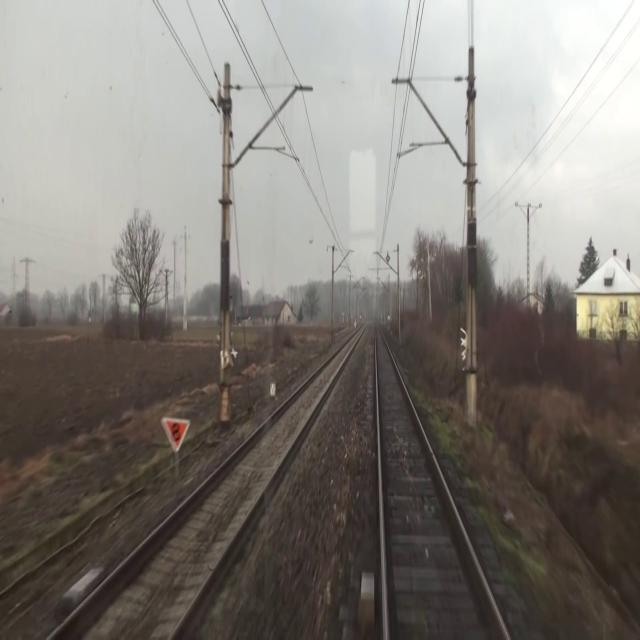rail-track: (52, 328, 362, 639), (376, 321, 505, 639)
